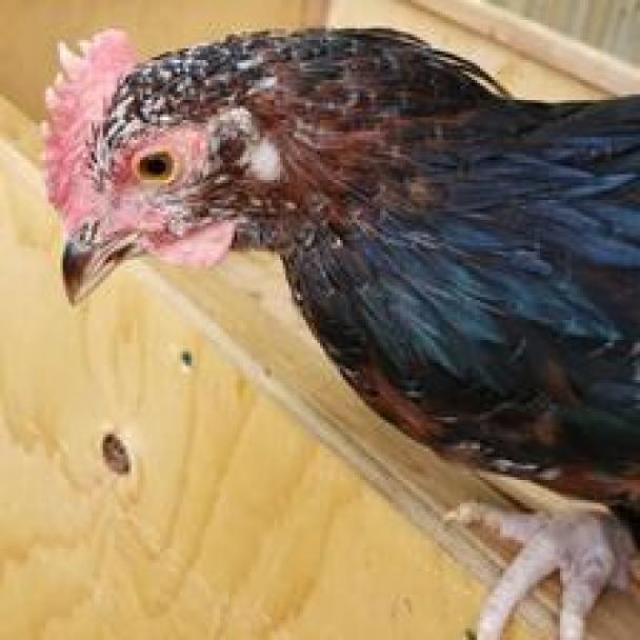Chicken: (8, 14, 639, 640)
